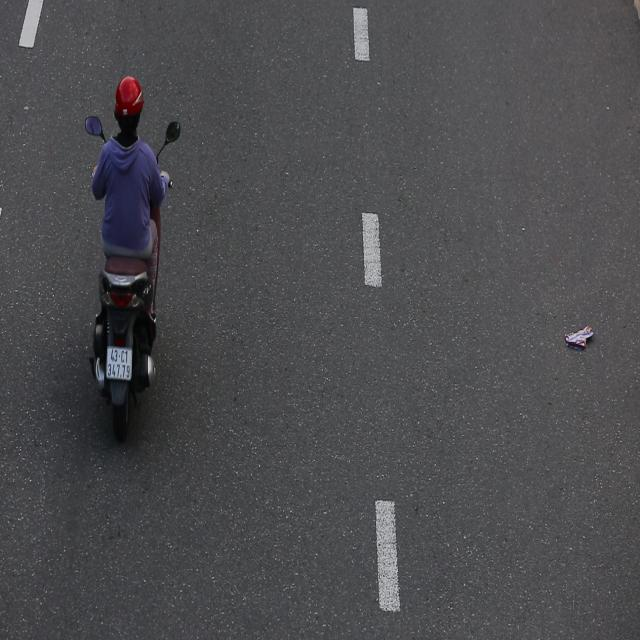motorbike: (84, 72, 185, 450)
